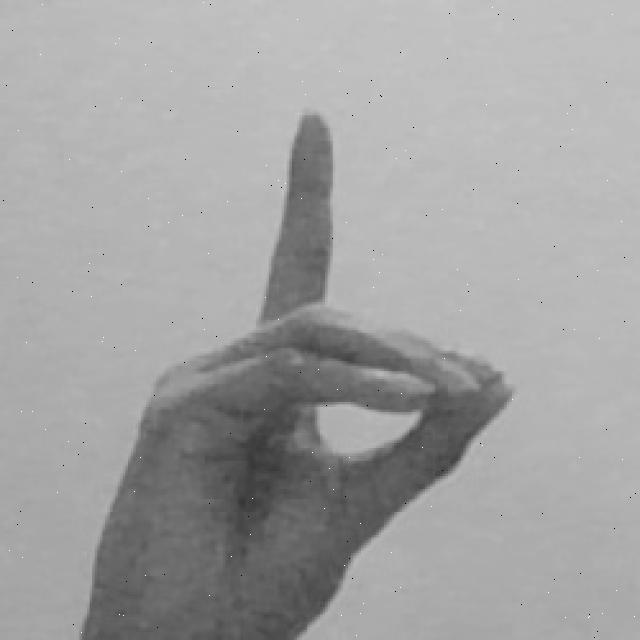D: (79, 107, 514, 640)
